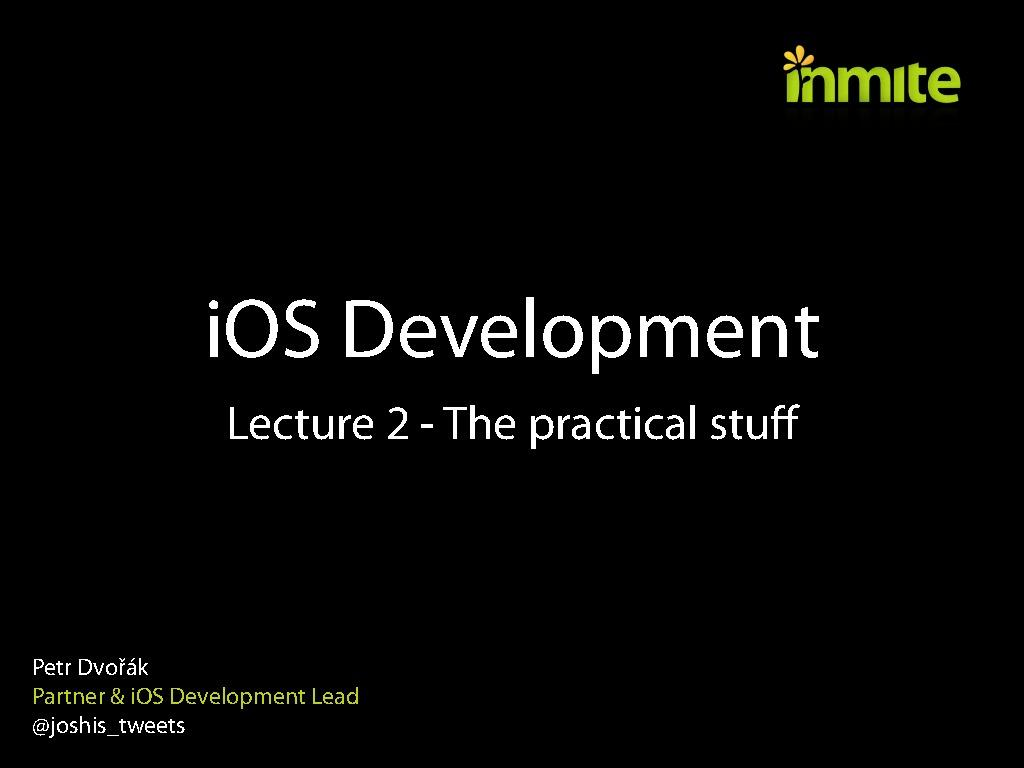subtitle: (15, 626, 384, 753), (772, 57, 971, 122)
title: (177, 246, 864, 490)
